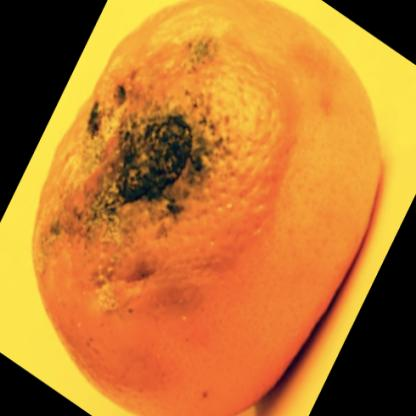rotten: (33, 1, 382, 416)
